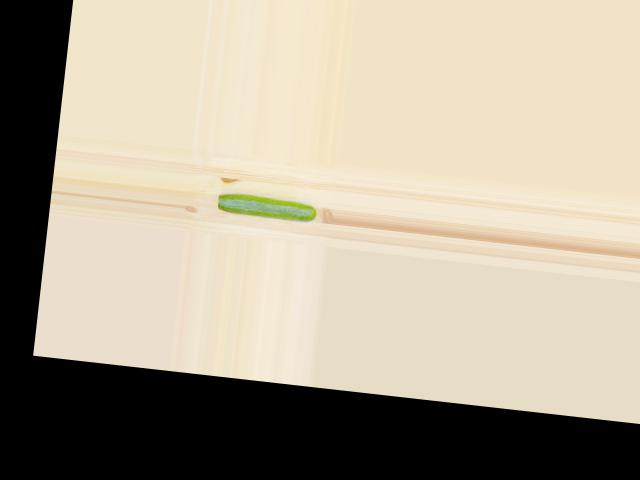cucumber: (217, 192, 317, 222)
